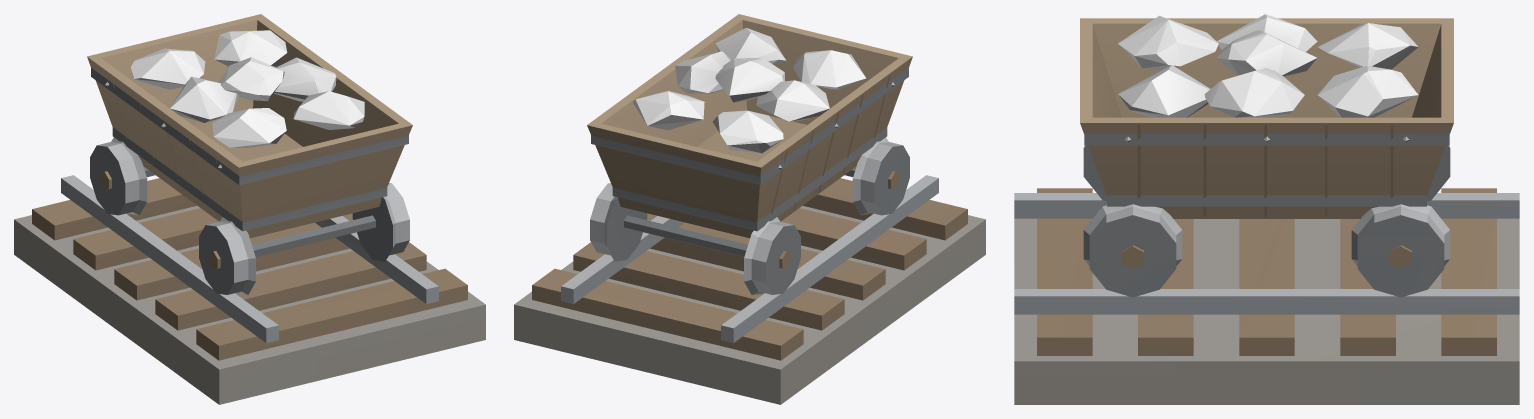
File: ore_cart.glb
3 views of the same model, side by side, from view 1: azimuth 30°, elevation 25°; view 2: azimuth 150°, elevation 25°; view 3: azimuth 270°, elevation 25° (orthographic). The views are drawn at different scales.
Visible parts, largest first — view 1: ore_cart, rail; view 2: ore_cart, rail; view 3: ore_cart, rail.
Boxes of the visible parts, x1=… form: ore_cart: x1=87, y1=14, x2=412, y2=294; rail: x1=14, y1=175, x2=485, y2=404; ore_cart: x1=587, y1=14, x2=912, y2=294; rail: x1=514, y1=175, x2=985, y2=404; ore_cart: x1=1080, y1=14, x2=1453, y2=297; rail: x1=1014, y1=188, x2=1519, y2=404.
Bounding box in the file's own units: 1.5 × 1.27 × 2.
